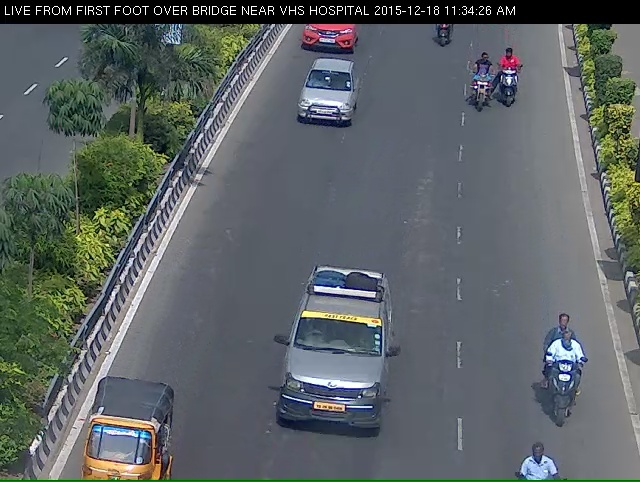Auto: (80, 394, 182, 482)
Car: (280, 285, 407, 471), (288, 62, 363, 155), (301, 18, 371, 57)
Person: (533, 322, 596, 450), (456, 49, 498, 116), (499, 53, 528, 115)
